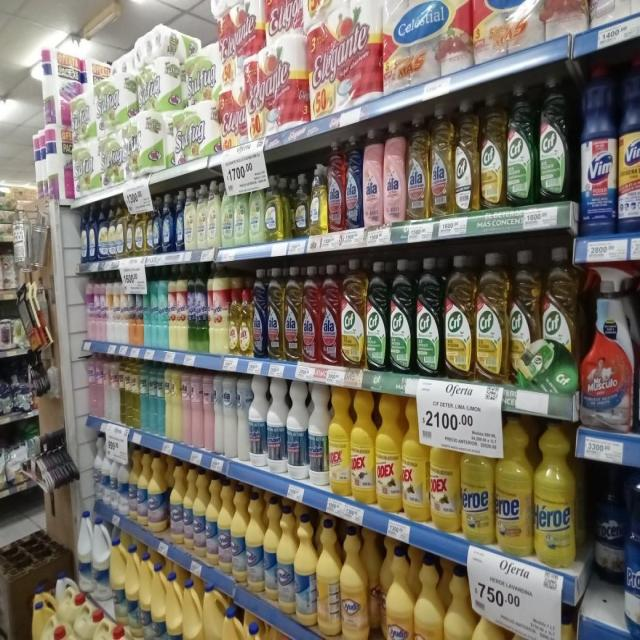ala_conc_amarillo: (430, 102, 454, 216), (406, 112, 429, 220), (284, 265, 301, 362), (268, 267, 284, 360)
ala_conc_azul: (346, 133, 362, 230), (253, 268, 267, 358)
ala_conc_rojo: (320, 263, 340, 366), (302, 264, 320, 366), (328, 139, 345, 232)
ala_crem_blanco: (224, 374, 236, 459)
ala_ultra_rosa: (384, 120, 406, 224), (363, 126, 383, 229)
cif_conc_bot_amarilla: (543, 246, 578, 390), (510, 248, 542, 390), (476, 250, 508, 384), (444, 253, 474, 380), (480, 92, 506, 209), (455, 98, 479, 213), (341, 258, 365, 370)
cif_conc_botella_verde: (538, 73, 572, 204), (506, 80, 536, 207), (416, 256, 442, 377), (390, 258, 414, 374), (366, 260, 388, 372)
magistral_con_amarillo: (264, 174, 286, 242), (310, 163, 327, 236), (291, 172, 309, 238), (134, 200, 144, 256), (116, 200, 124, 259), (145, 198, 153, 255), (125, 201, 133, 258)
magistral_con_azul: (625, 469, 640, 637), (162, 193, 173, 253), (98, 201, 109, 261), (174, 190, 183, 252), (88, 202, 96, 262), (153, 196, 161, 254)
magistral_con_crema: (249, 181, 264, 244)
